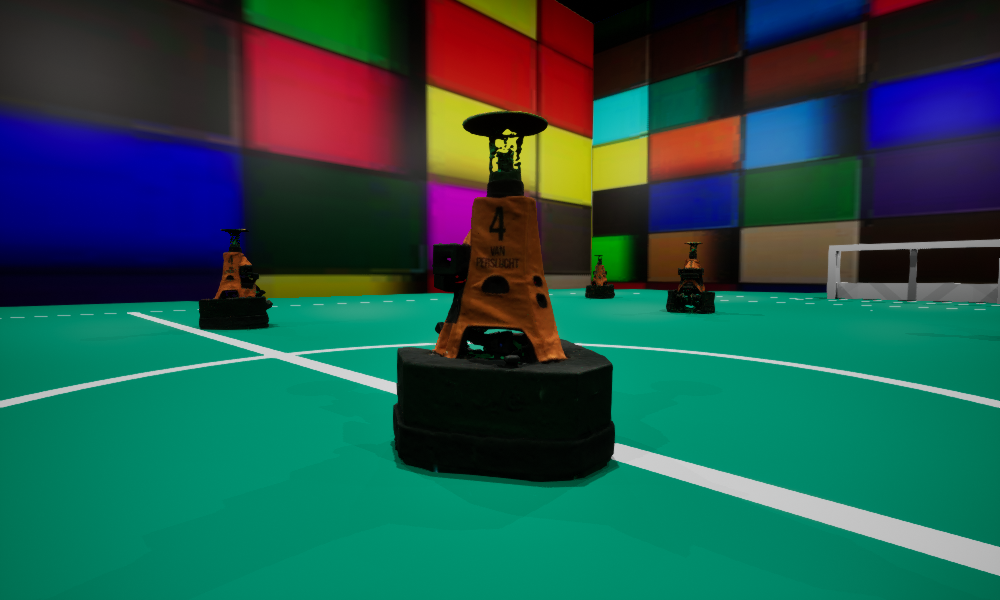o: (393, 110, 614, 481), (199, 229, 272, 329), (666, 242, 714, 312), (585, 255, 614, 298)
